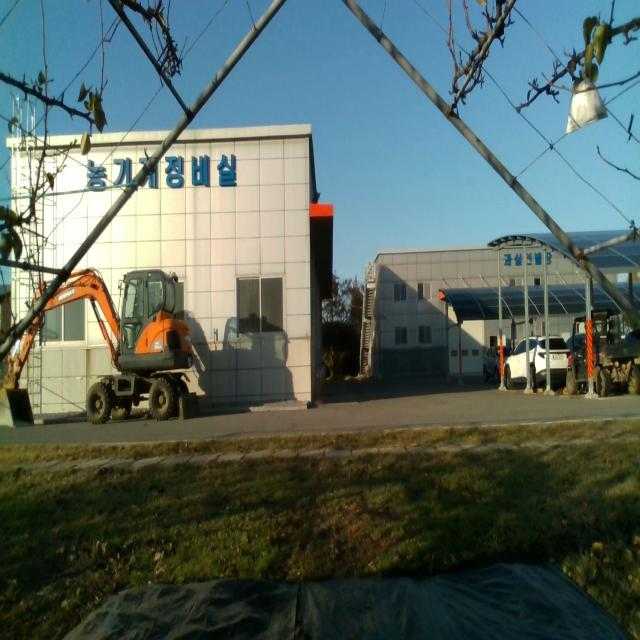pearbags: (566, 74, 608, 134)
